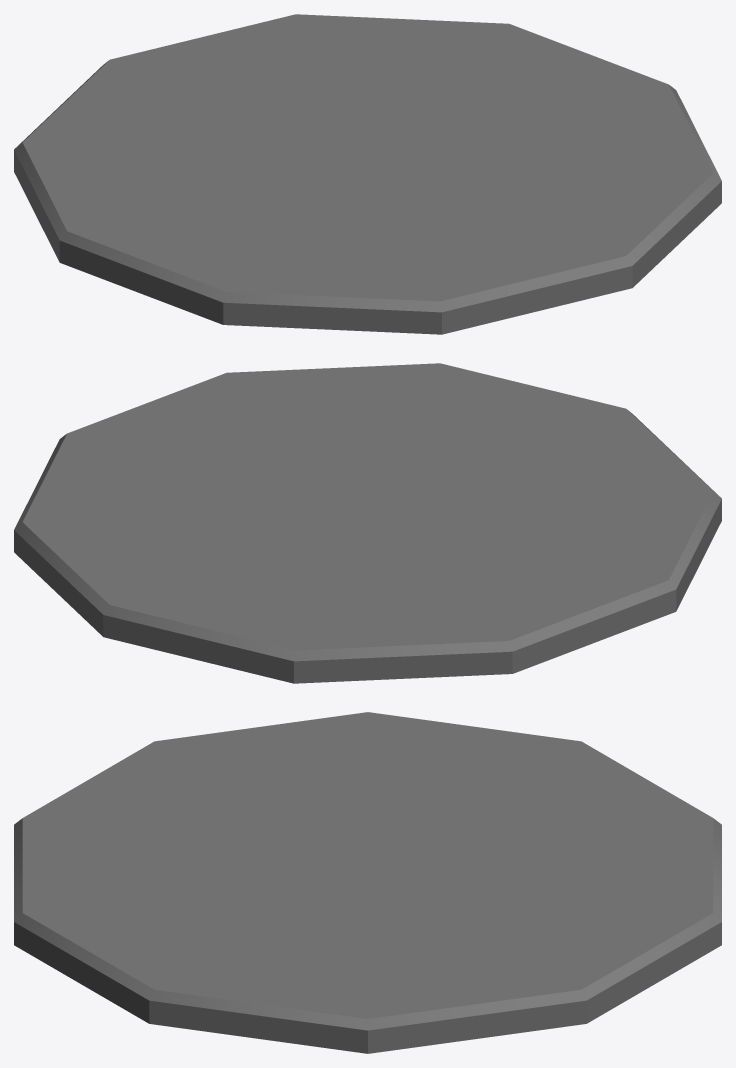
File: street_props_outside_luke_3.fbx
3 renders of one model, top to bottom at view 1: azimuth 30°, elevation 25°; view 2: azimuth 150°, elevation 25°; view 3: azimuth 270°, elevation 25°, orthographic. The views are drawn at different scales.
Parts seen in each view (by area): view 1: luke_3; view 2: luke_3; view 3: luke_3.
Part boxes in pixels (box(x1,y1,x2,y2)): luke_3: box(14, 14, 721, 334); luke_3: box(14, 363, 721, 683); luke_3: box(14, 712, 721, 1053).
Size of the model in its own units: 58.63 by 2.7 by 55.76.
